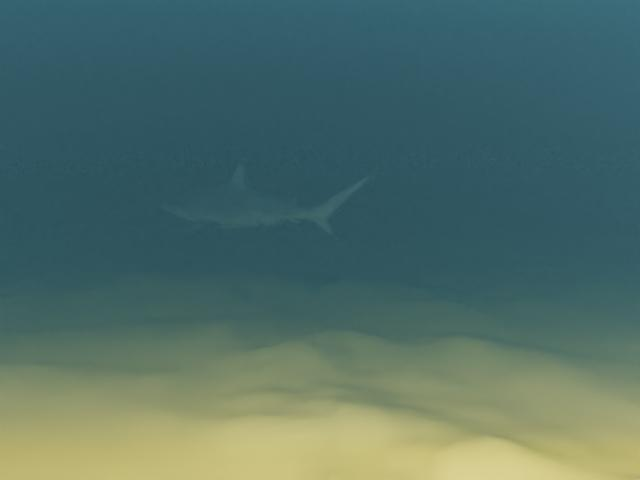Carribean Shark.001: (160, 158, 378, 241)
